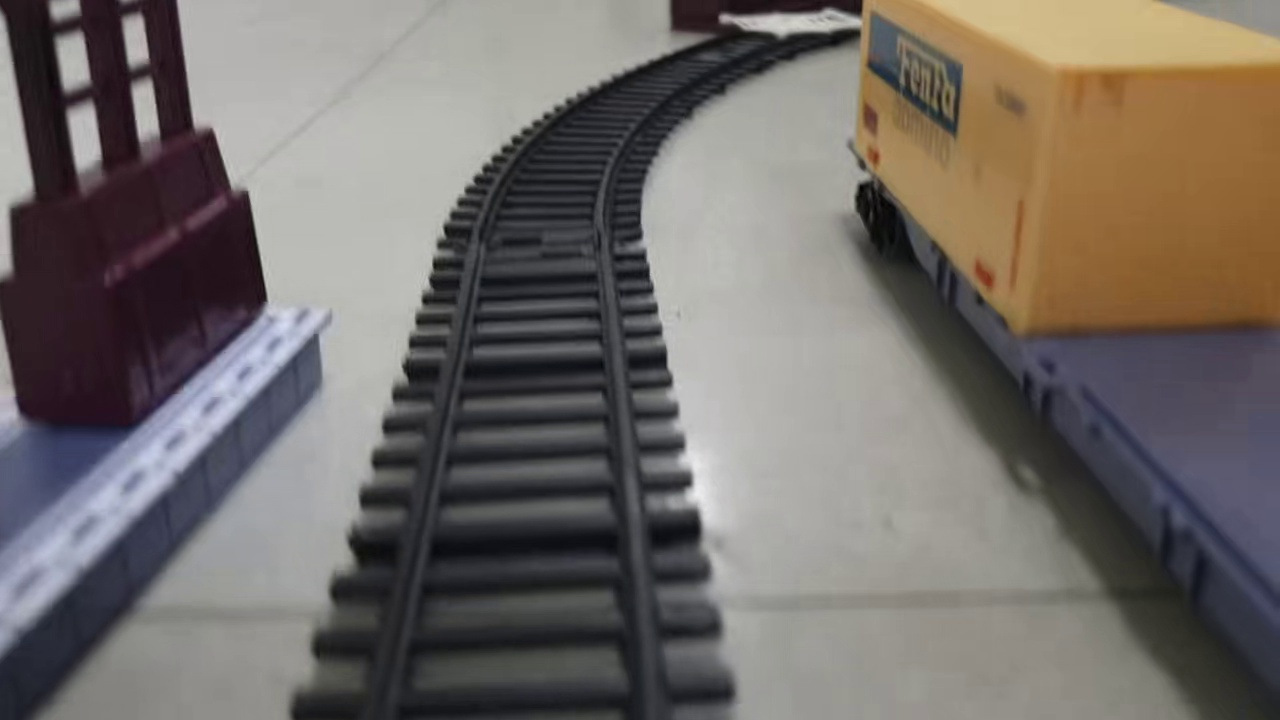web: (715, 7, 862, 43)
